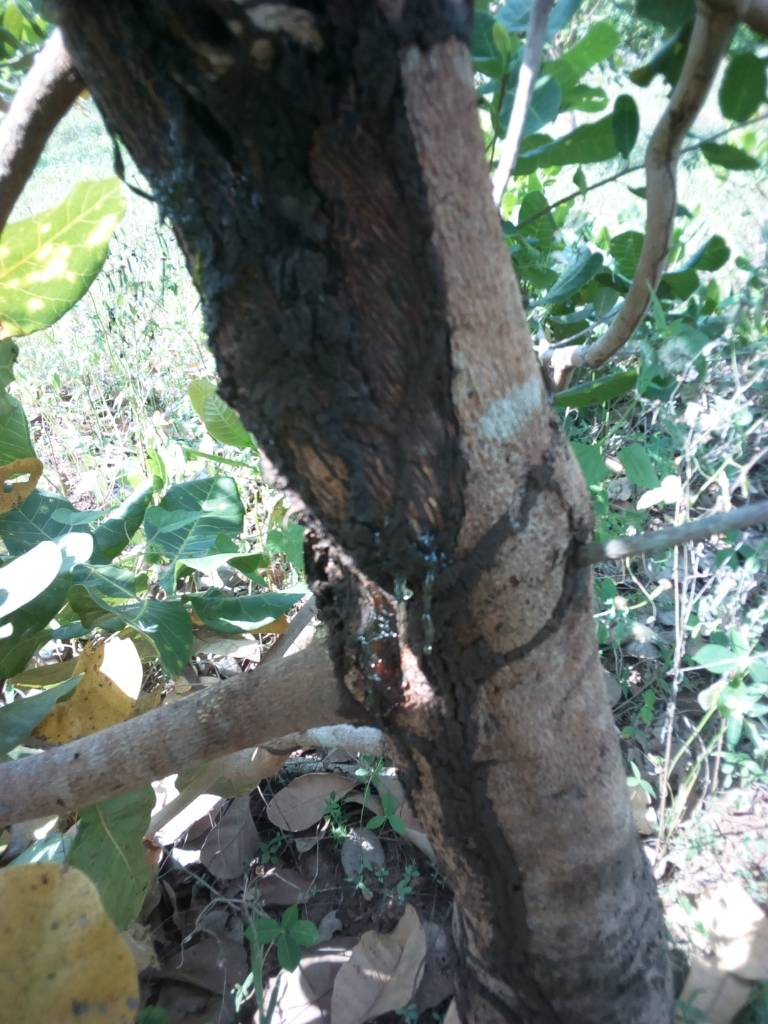Termites: (422, 713, 555, 1013)
